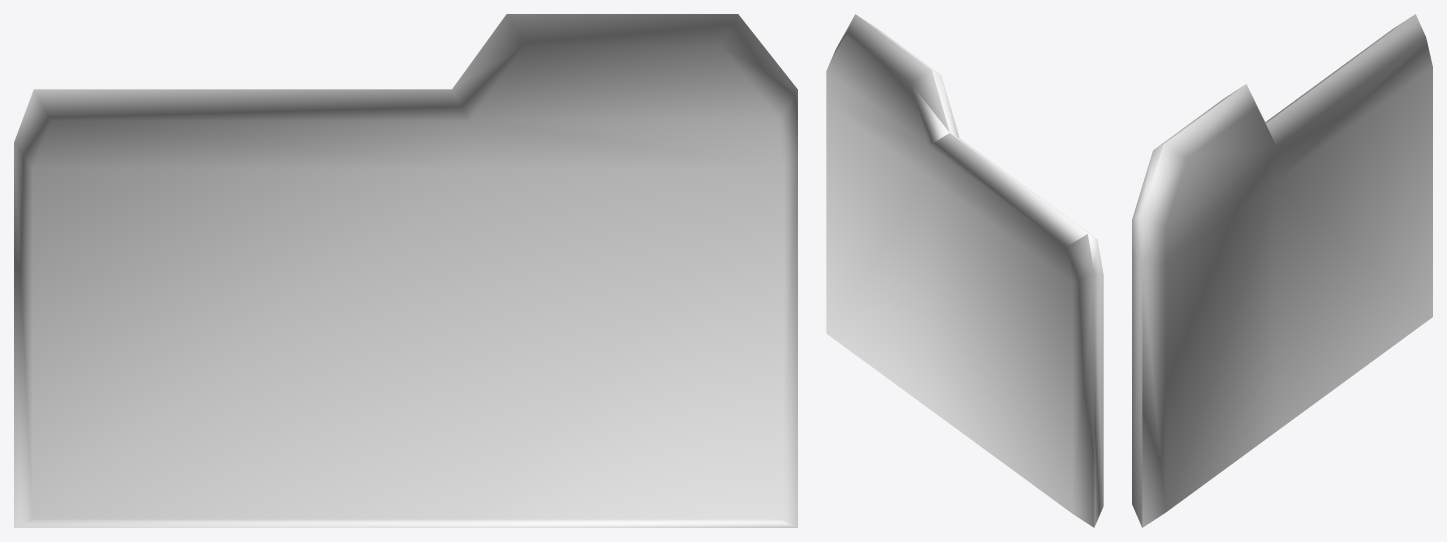
File: bs_ico.ico.obj
The picture shows the model from 3 angles, left to right: view 1: azimuth 30°, elevation 25°; view 2: azimuth 150°, elevation 25°; view 3: azimuth 270°, elevation 25°; orthographic projection. The views are drawn at different scales.
Size of the model in its own units: 3.71 by 3.1 by 2.3.
Materials: 1 (1 with a texture image).
